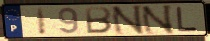9: (57, 7, 81, 36)
B: (85, 6, 114, 35)
I: (35, 7, 48, 36)
L: (175, 6, 200, 33)
N: (140, 4, 176, 36), (110, 4, 146, 36)
